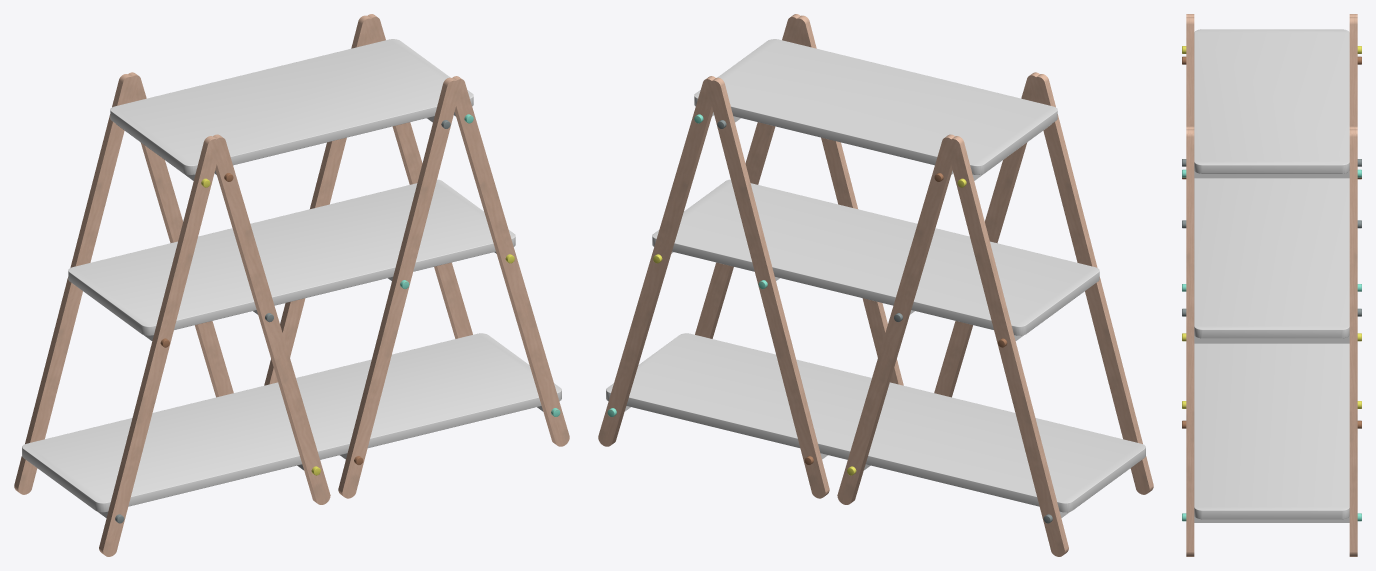
File: dot_bookcase.gltf
The picture shows the model from 3 angles, left to right: view 1: azimuth 30°, elevation 25°; view 2: azimuth 150°, elevation 25°; view 3: azimuth 270°, elevation 25°; orthographic projection. The views are drawn at different scales.
Visible parts, largest first — view 1: Mesh; view 2: Mesh; view 3: Mesh.
Boxes of the visible parts, x1,y1,x2,y2 form: Mesh: [14, 14, 569, 556]; Mesh: [598, 14, 1153, 556]; Mesh: [1182, 14, 1361, 556].
Bounding box in the file's own units: 1.3 × 1.04 × 0.4504.
1 material, 1 textured.
